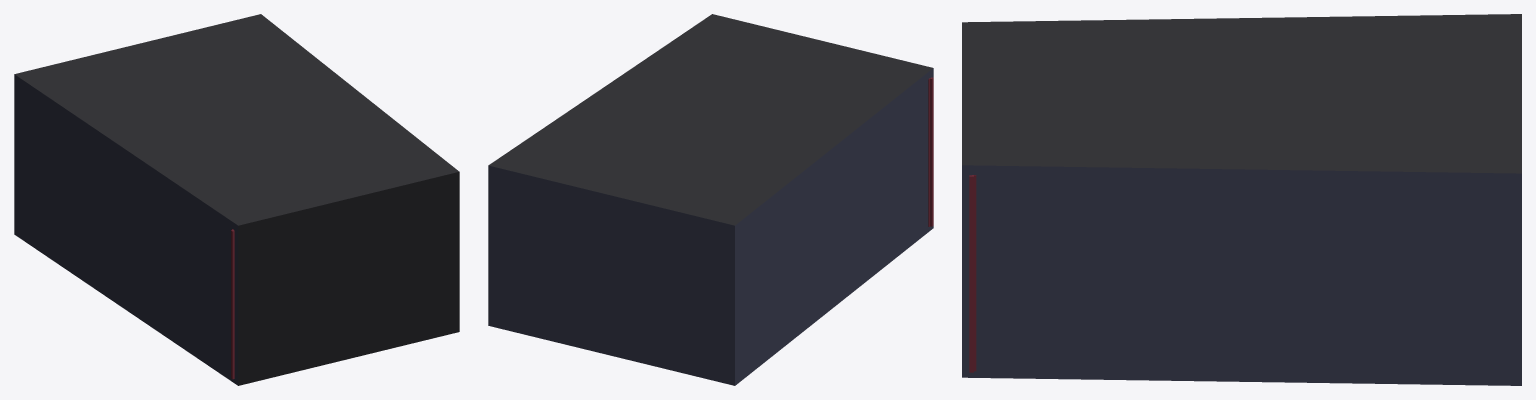
The model's file is cinema_imax.glb.
3 views of the same model, side by side, from view 1: azimuth 30°, elevation 25°; view 2: azimuth 150°, elevation 25°; view 3: azimuth 270°, elevation 25° (orthographic). The views are drawn at different scales.
Visible parts, largest first — view 1: CeilingP, SideWall-1, ScreenWall, Curtain-1_6; view 2: CeilingP, BackWall, SideWall-1, Curtain-1_6; view 3: SideWall1, CeilingP, Curtain1_6, Curtain1_5.
Boxes of the visible parts, <box> form: CeilingP: <box>14,14,458,225</box>; SideWall-1: <box>14,74,238,385</box>; ScreenWall: <box>238,171,459,385</box>; Curtain-1_6: <box>231,230,234,379</box>; CeilingP: <box>488,14,932,225</box>; BackWall: <box>488,165,734,385</box>; SideWall-1: <box>735,68,933,385</box>; Curtain-1_6: <box>930,77,933,226</box>; SideWall1: <box>962,165,1521,385</box>; CeilingP: <box>962,14,1521,173</box>; Curtain1_6: <box>969,175,973,372</box>; Curtain1_5: <box>972,175,976,371</box>.
Size of the model in its own units: 29 by 18.17 by 43.
